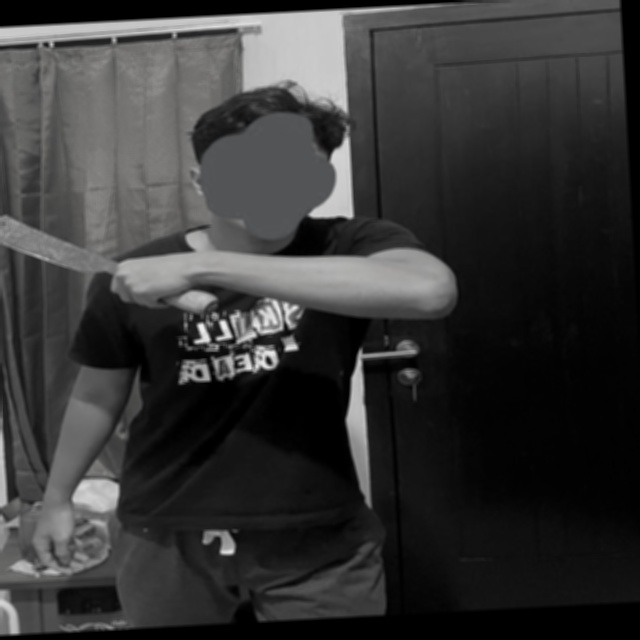Sharp-Object: (0, 200, 222, 329)
